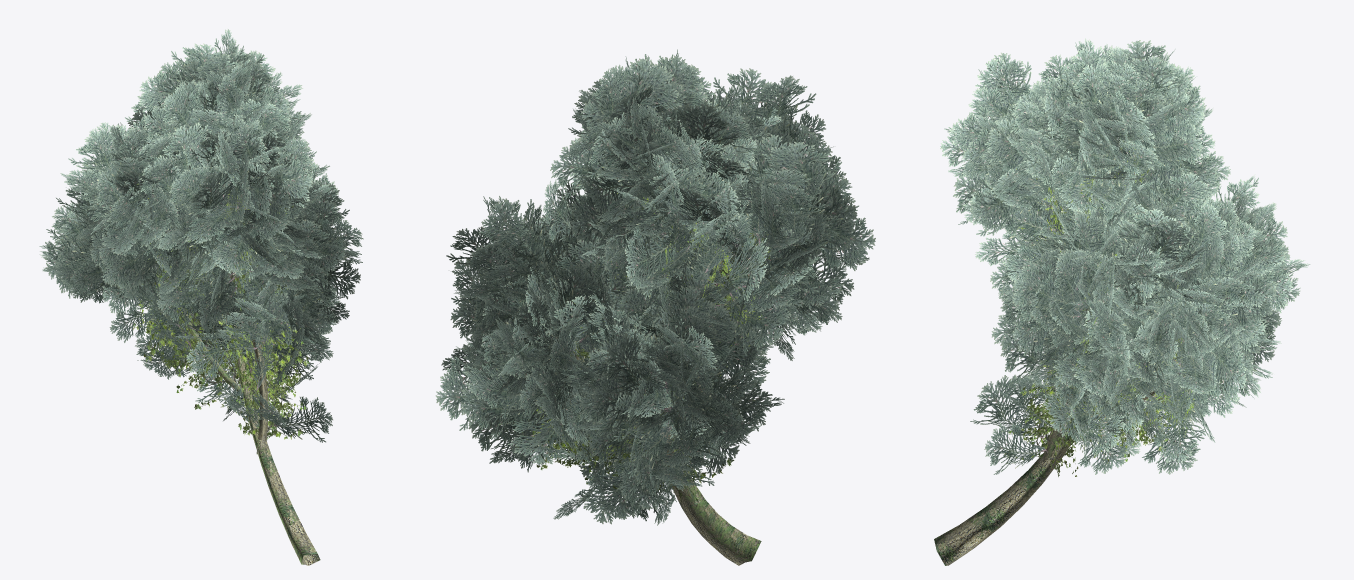
File: tree05_leaning.fbx
3 renders of one model, left to right at view 1: azimuth 30°, elevation 25°; view 2: azimuth 150°, elevation 25°; view 3: azimuth 270°, elevation 25°, orthographic. The views are drawn at different scales.
Parts seen in each view (by area): view 1: tree05_leaning; view 2: tree05_leaning; view 3: tree05_leaning.
Part boxes in pixels (x1,y1,x2,y2): tree05_leaning: [39, 29, 363, 565]; tree05_leaning: [435, 49, 875, 565]; tree05_leaning: [934, 38, 1310, 565].
Size of what is drawn, in the model's own units: 1047 by 1522 by 1096.
